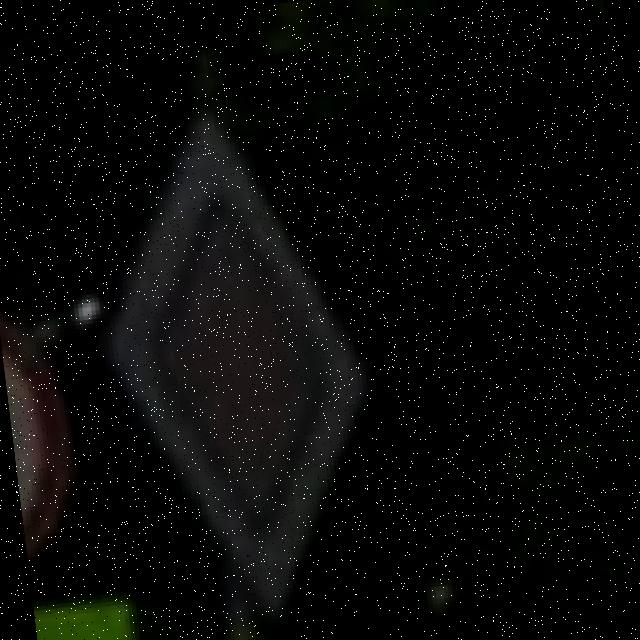Droga z pierwszenstwem: (63, 86, 411, 640)
